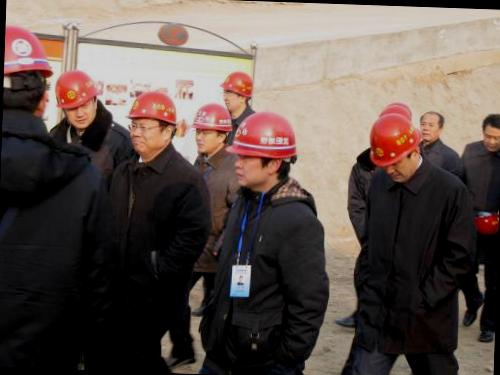no_helmet: (417, 107, 448, 145), (478, 109, 500, 151)
